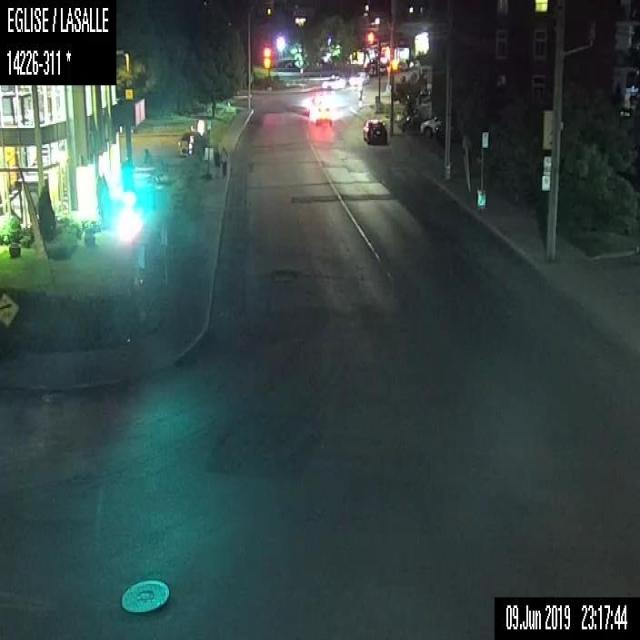pedestrian: (218, 145, 228, 177), (211, 142, 219, 178), (143, 147, 152, 164)
vehicle: (176, 130, 203, 158), (361, 116, 388, 144), (418, 115, 441, 136), (320, 72, 345, 89), (313, 105, 332, 127), (347, 70, 360, 86), (364, 69, 371, 84)
